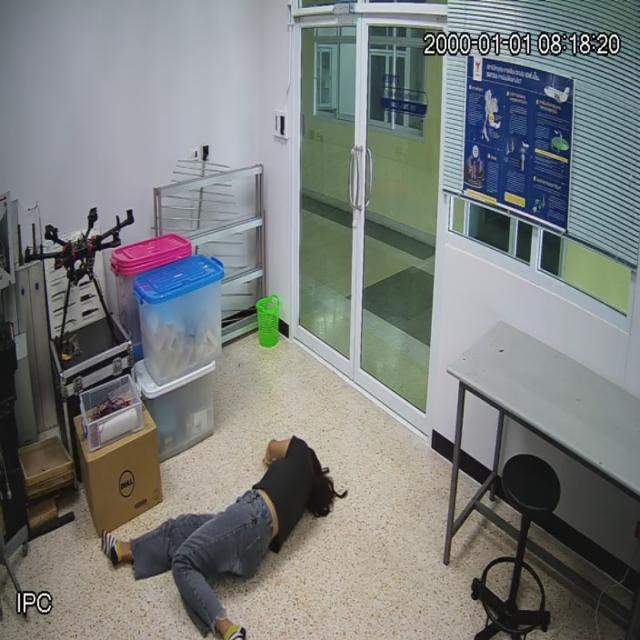fall: (108, 434, 331, 640)
